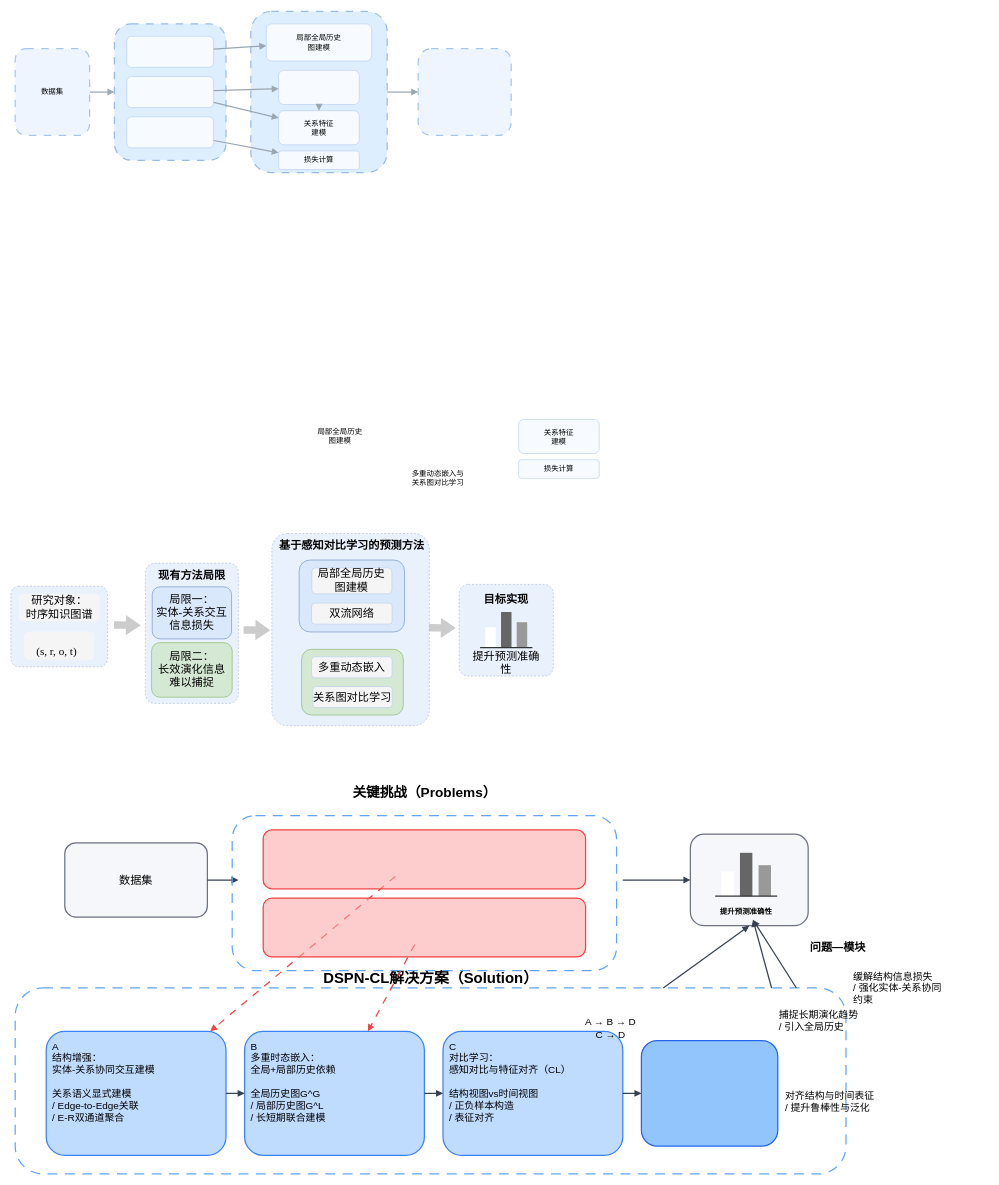
Image size: 999x1185. Some labels were removed from this diagram. The box of each missing label's shape, as (x1, y1, x2, y2) in pixels:
D 损失计算 （预测损失 + 对比损失）: (640, 1040, 778, 1146)
P1：实体-关系深度交互不足 → 结构信息损失: (262, 829, 586, 889)
P2：时间建模偏短期 → 长效演化规律难以捕捉: (262, 897, 586, 957)
事件四元组: (24, 631, 94, 660)
事件实体预测: (417, 48, 512, 136)
历史图构建: (126, 36, 214, 67)
实体特征 建模: (278, 70, 359, 104)
对比学习: (126, 116, 214, 148)
模型构建: (126, 76, 214, 108)
